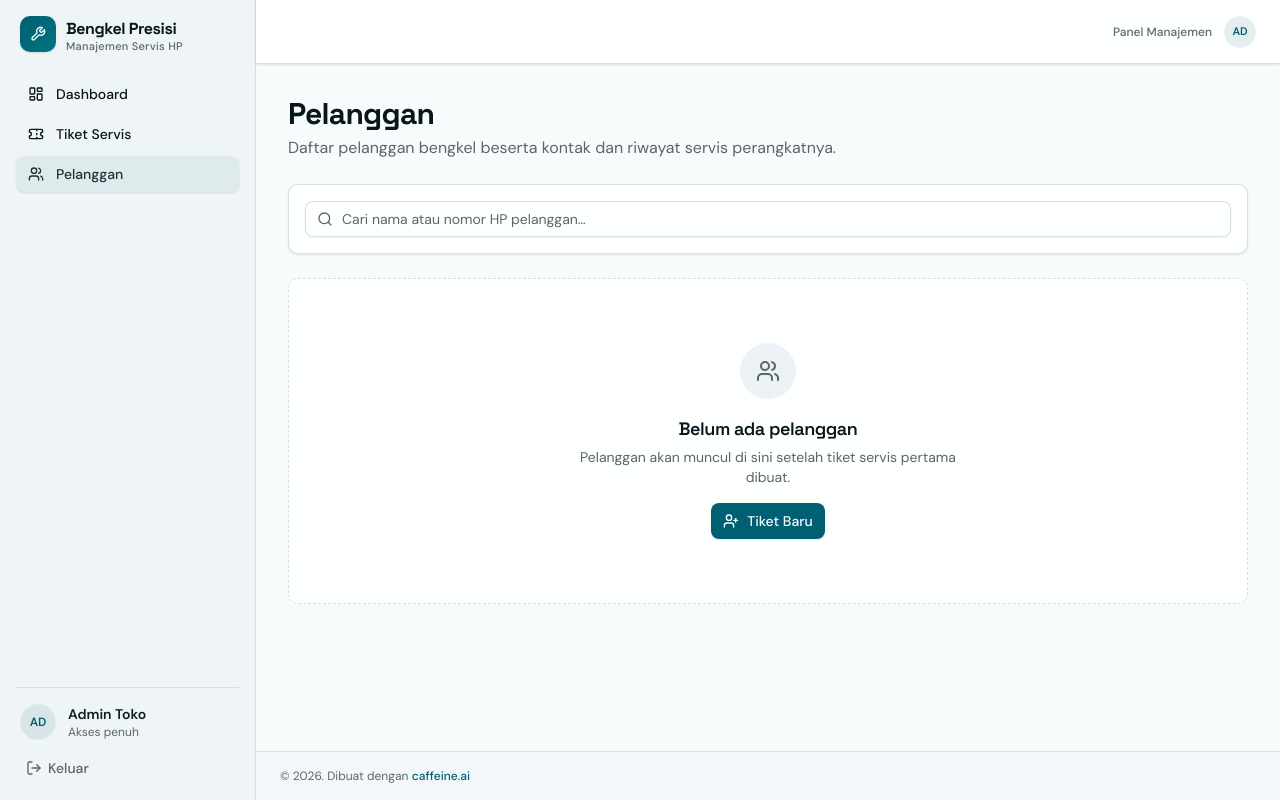
Test: customer directory › shows the filtered empty state when no customer matches
The width and height of the screenshot is (1280, 800).
Type "Tidak Ada" into the search field named "Cari pelanggan berdasarkan nama atau nomor HP" at {"x": 768, "y": 219}, box [305, 201, 1231, 237]
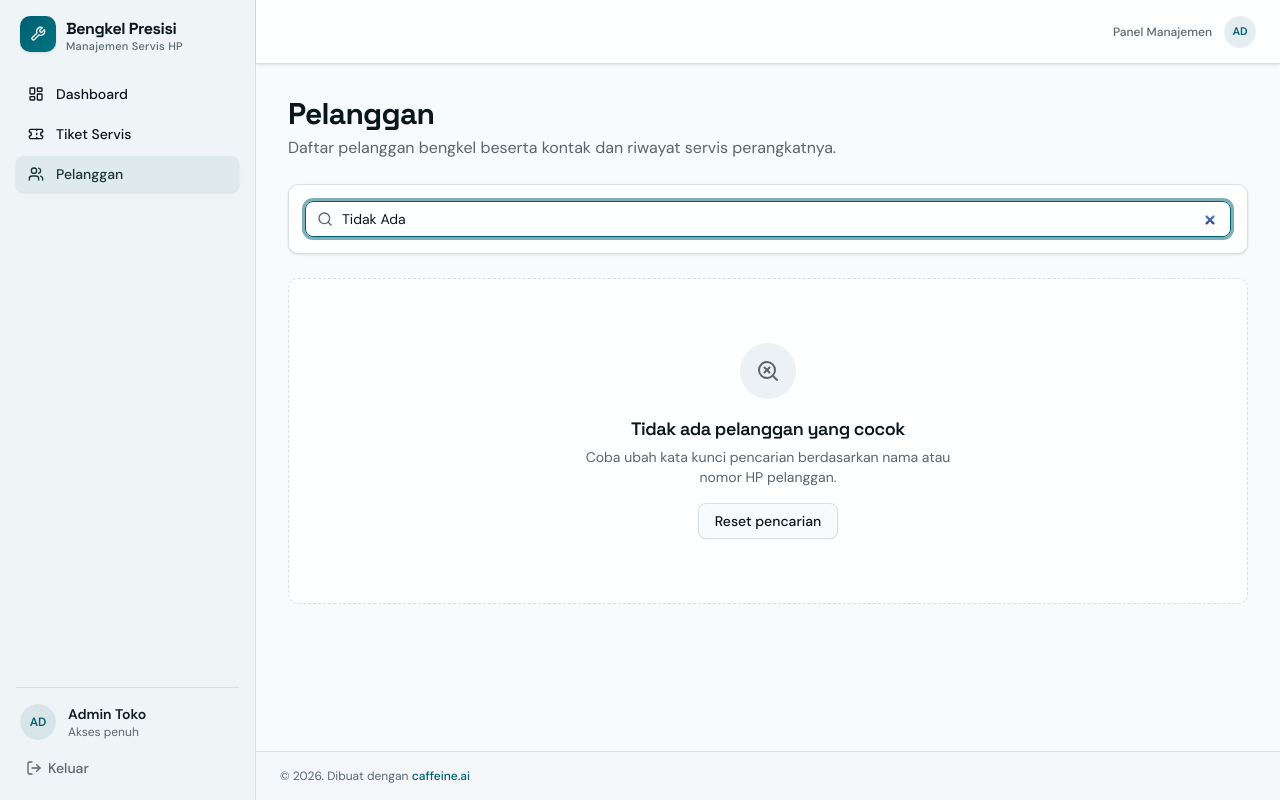
Result: the heading "Tidak ada pelanggan yang cocok" is shown at [631, 417, 905, 440]
